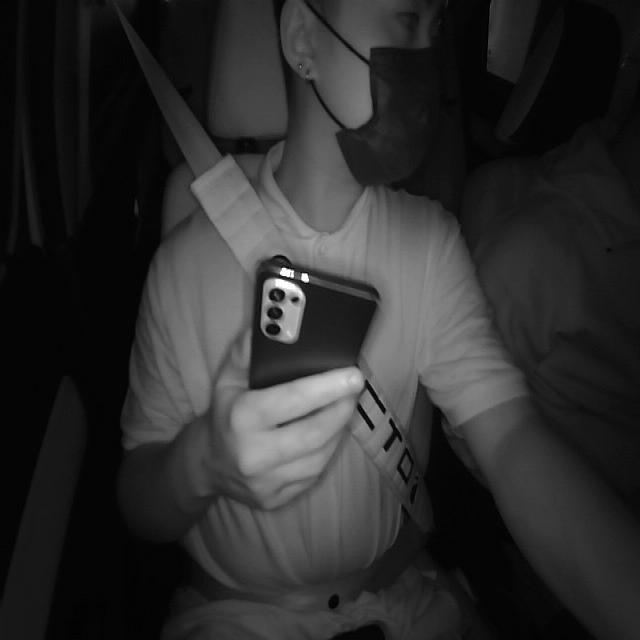phone: (247, 253, 385, 413)
